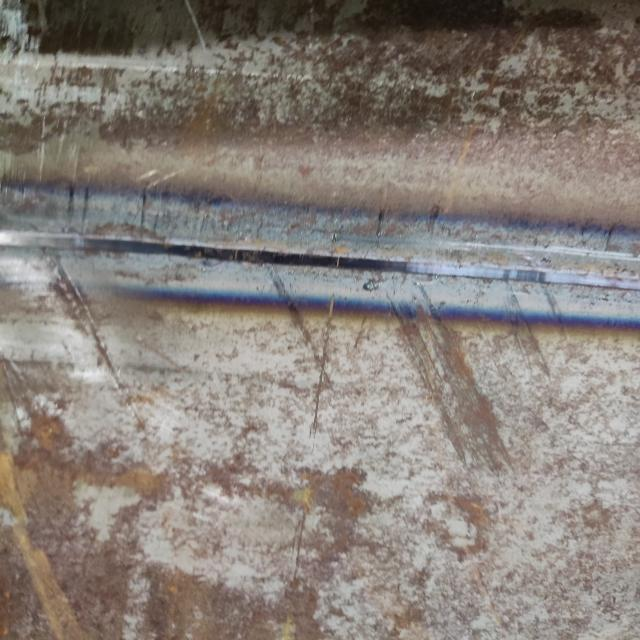seam: (0, 165, 640, 343)
